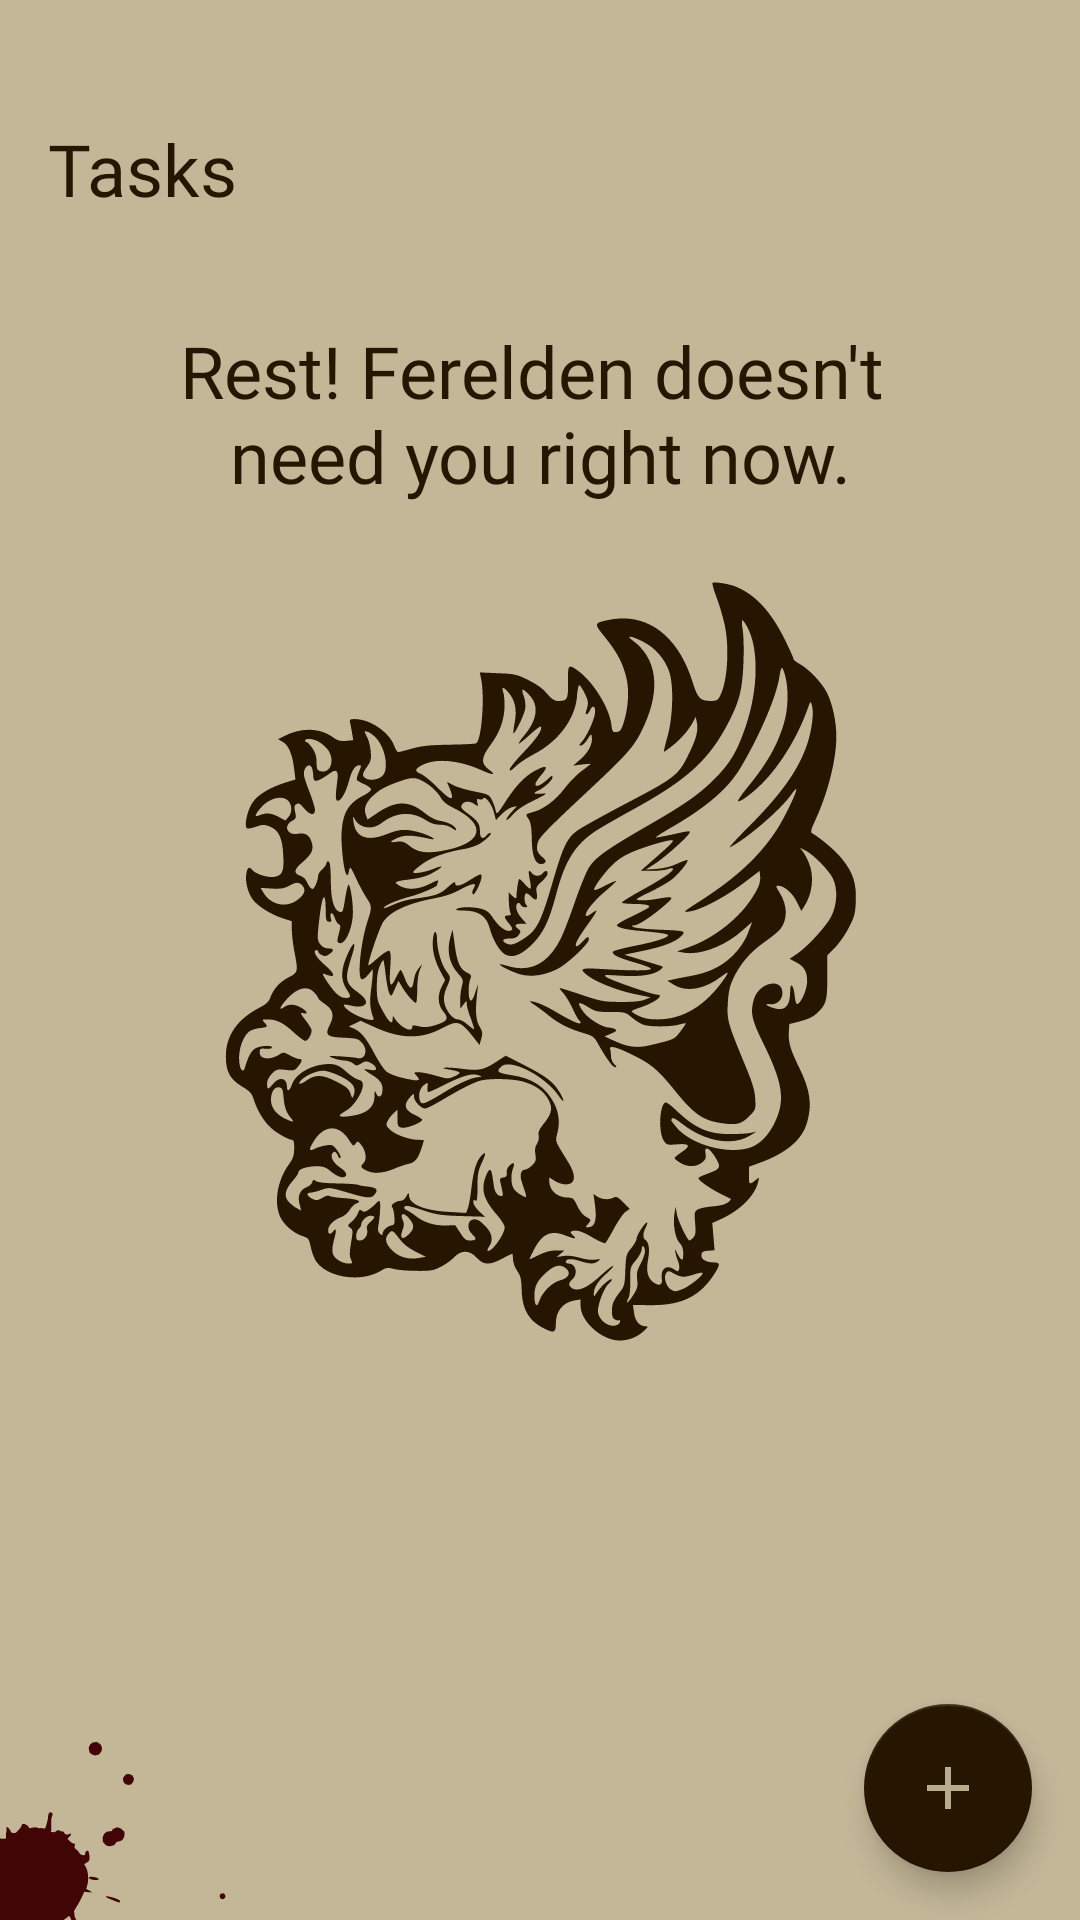

Where to tap for icons on this 1080×1920 app screen, as point (x, y):
New task: point (948, 1788)
